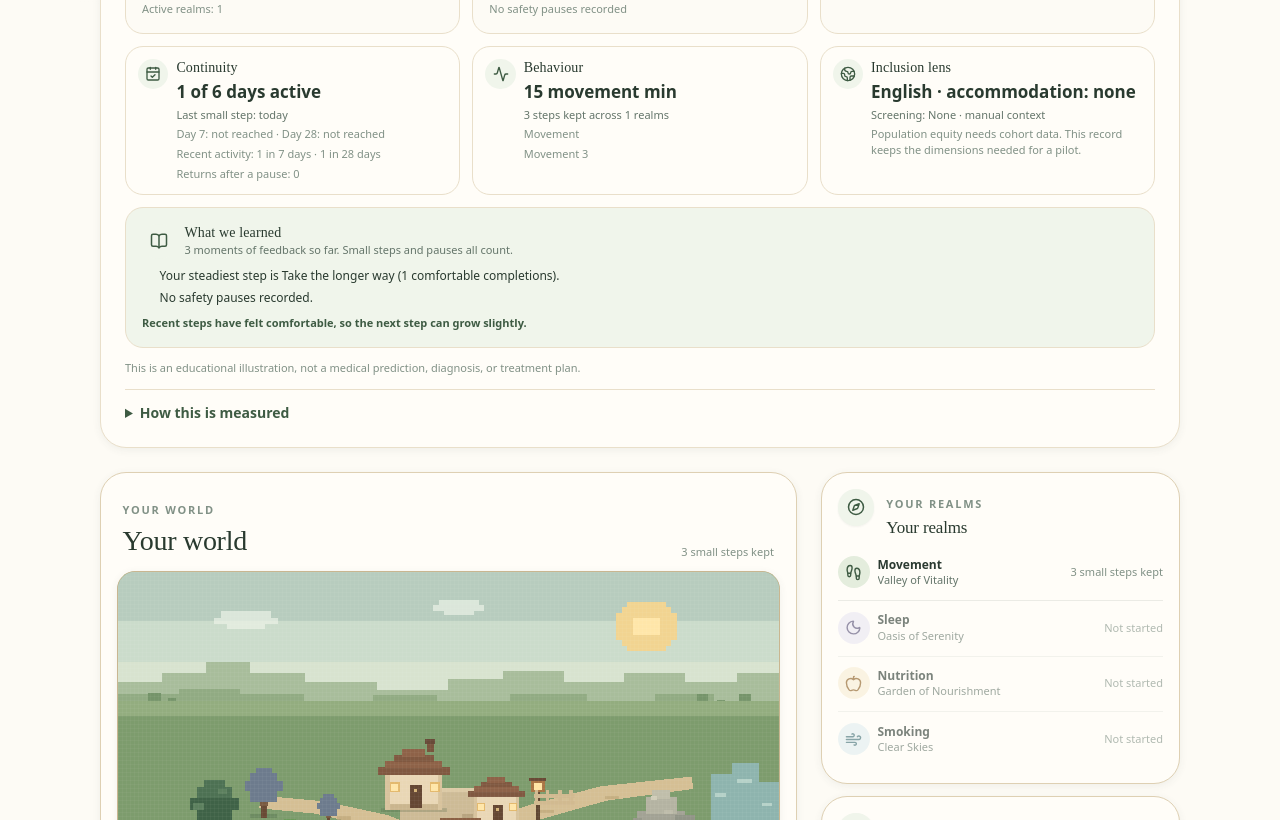
it: WorldGamePage › opens the outcome methodology disclosure
(page scrolled)
Click the heading "How this is measured": (207, 412) [125, 402, 289, 423]
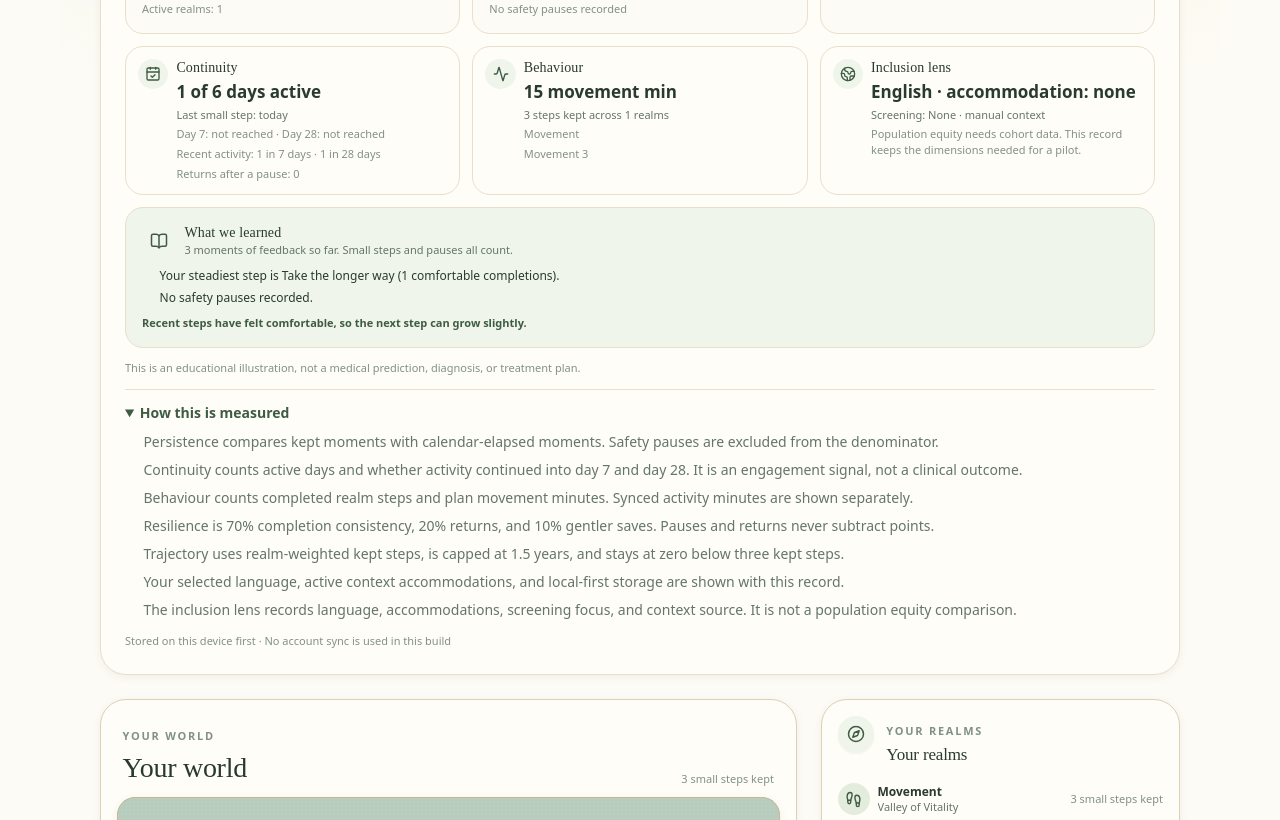
Check: the list item "Persistence compares kept moments" is shown, box [143, 432, 939, 451]
Check: the list item "Continuity counts active days" is shown, box [143, 460, 1023, 479]
Check: the list item "Behaviour counts completed realm steps" is shown, box [143, 488, 913, 507]
